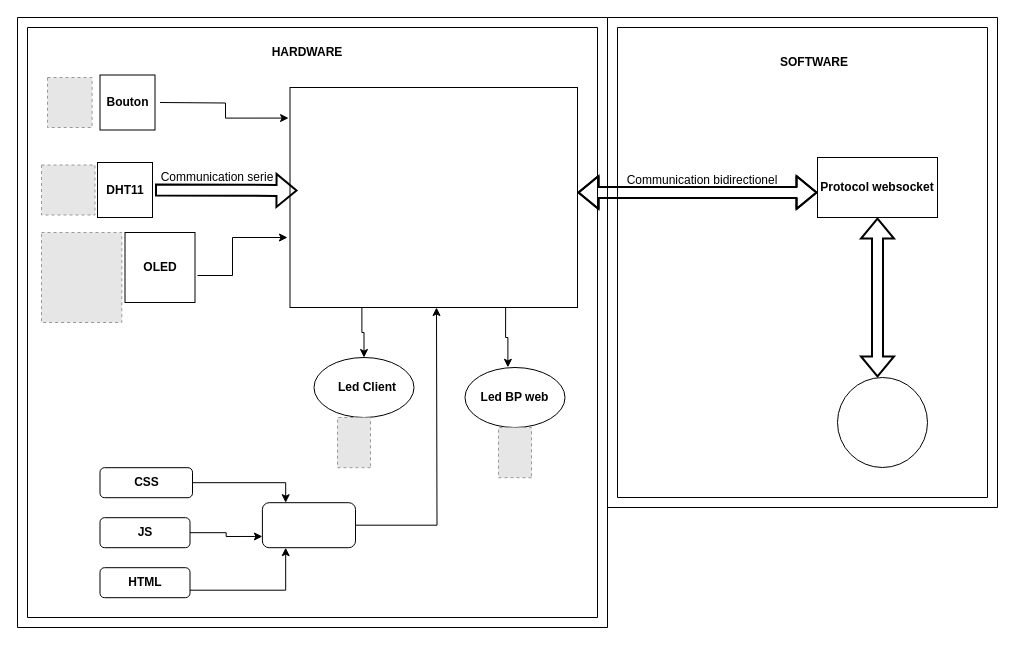
Image size: 1015x645. Some labels were removed from this diagram. Grey dashed boxes stand in for pictures. Each missing label, with the centre of its shape:
"Client Web" belongs at point (882, 422).
"ESP32 Serveur" belongs at point (433, 197).
"LITTLEFS" belongs at point (308, 525).
